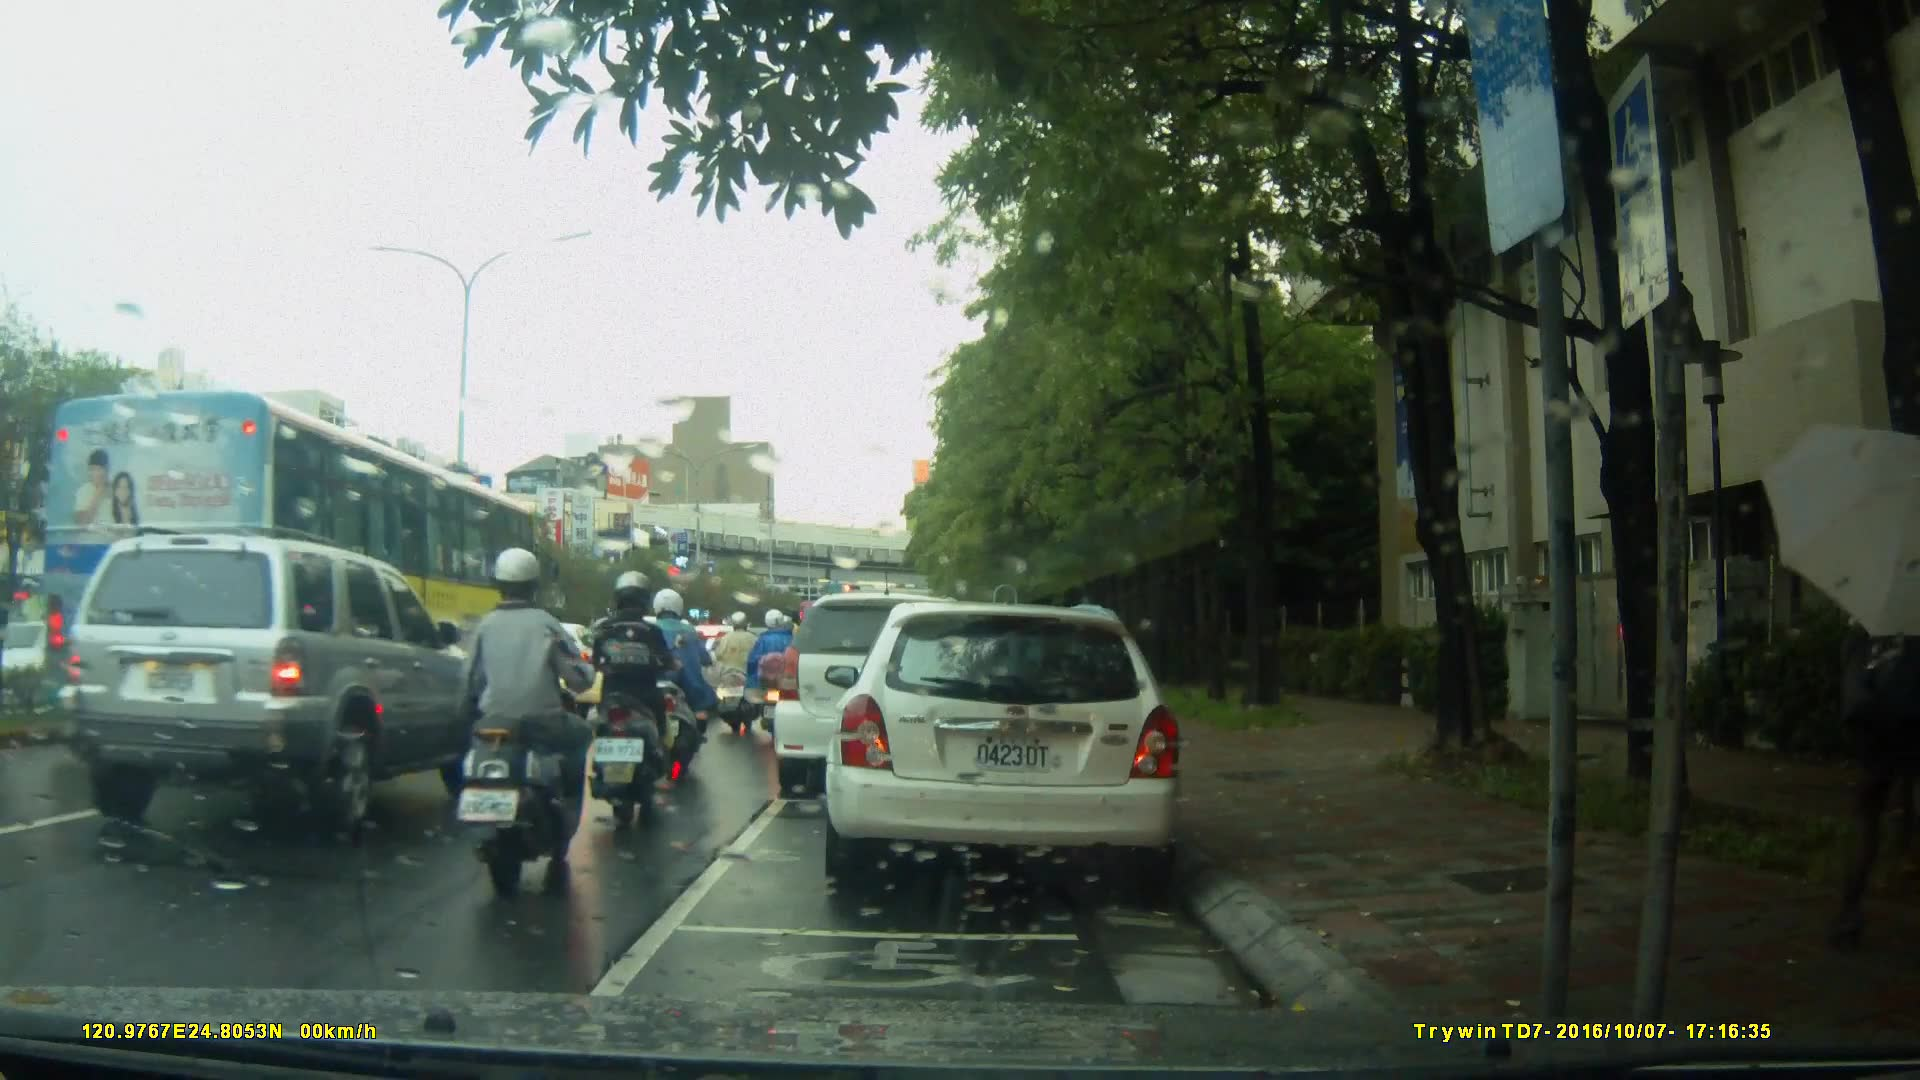rider: (446, 544, 601, 899), (590, 568, 682, 823), (637, 585, 721, 771), (750, 612, 813, 731), (709, 609, 769, 732)
vehicle: (38, 389, 547, 761), (44, 526, 480, 837), (835, 594, 1194, 898), (776, 590, 1026, 784)
